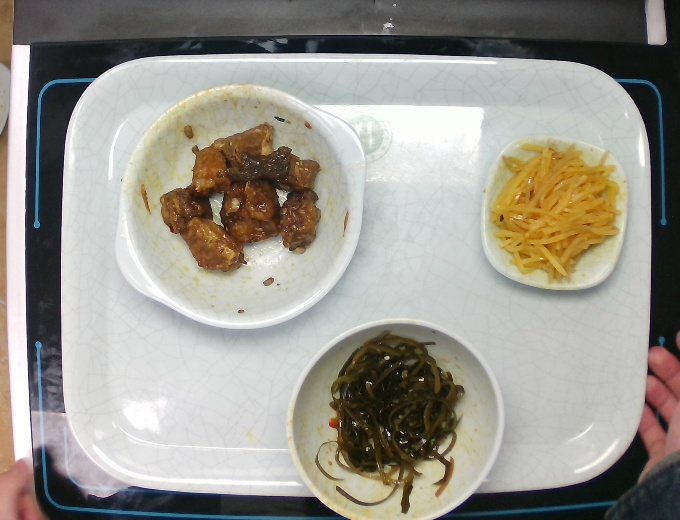JYsf-Fan_Wan: (285, 309, 508, 515)
JYsf-Shuang_Er_Wan: (108, 79, 371, 334)
JYsf-Si_Fang_Die: (473, 130, 632, 300)
